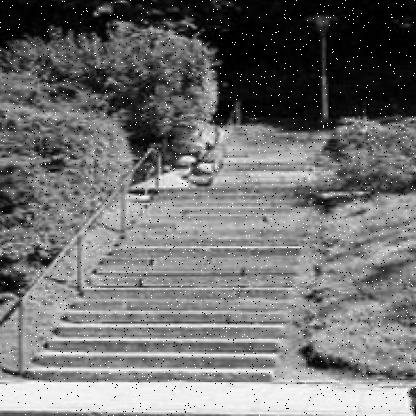stair_up: (0, 209, 309, 384)
